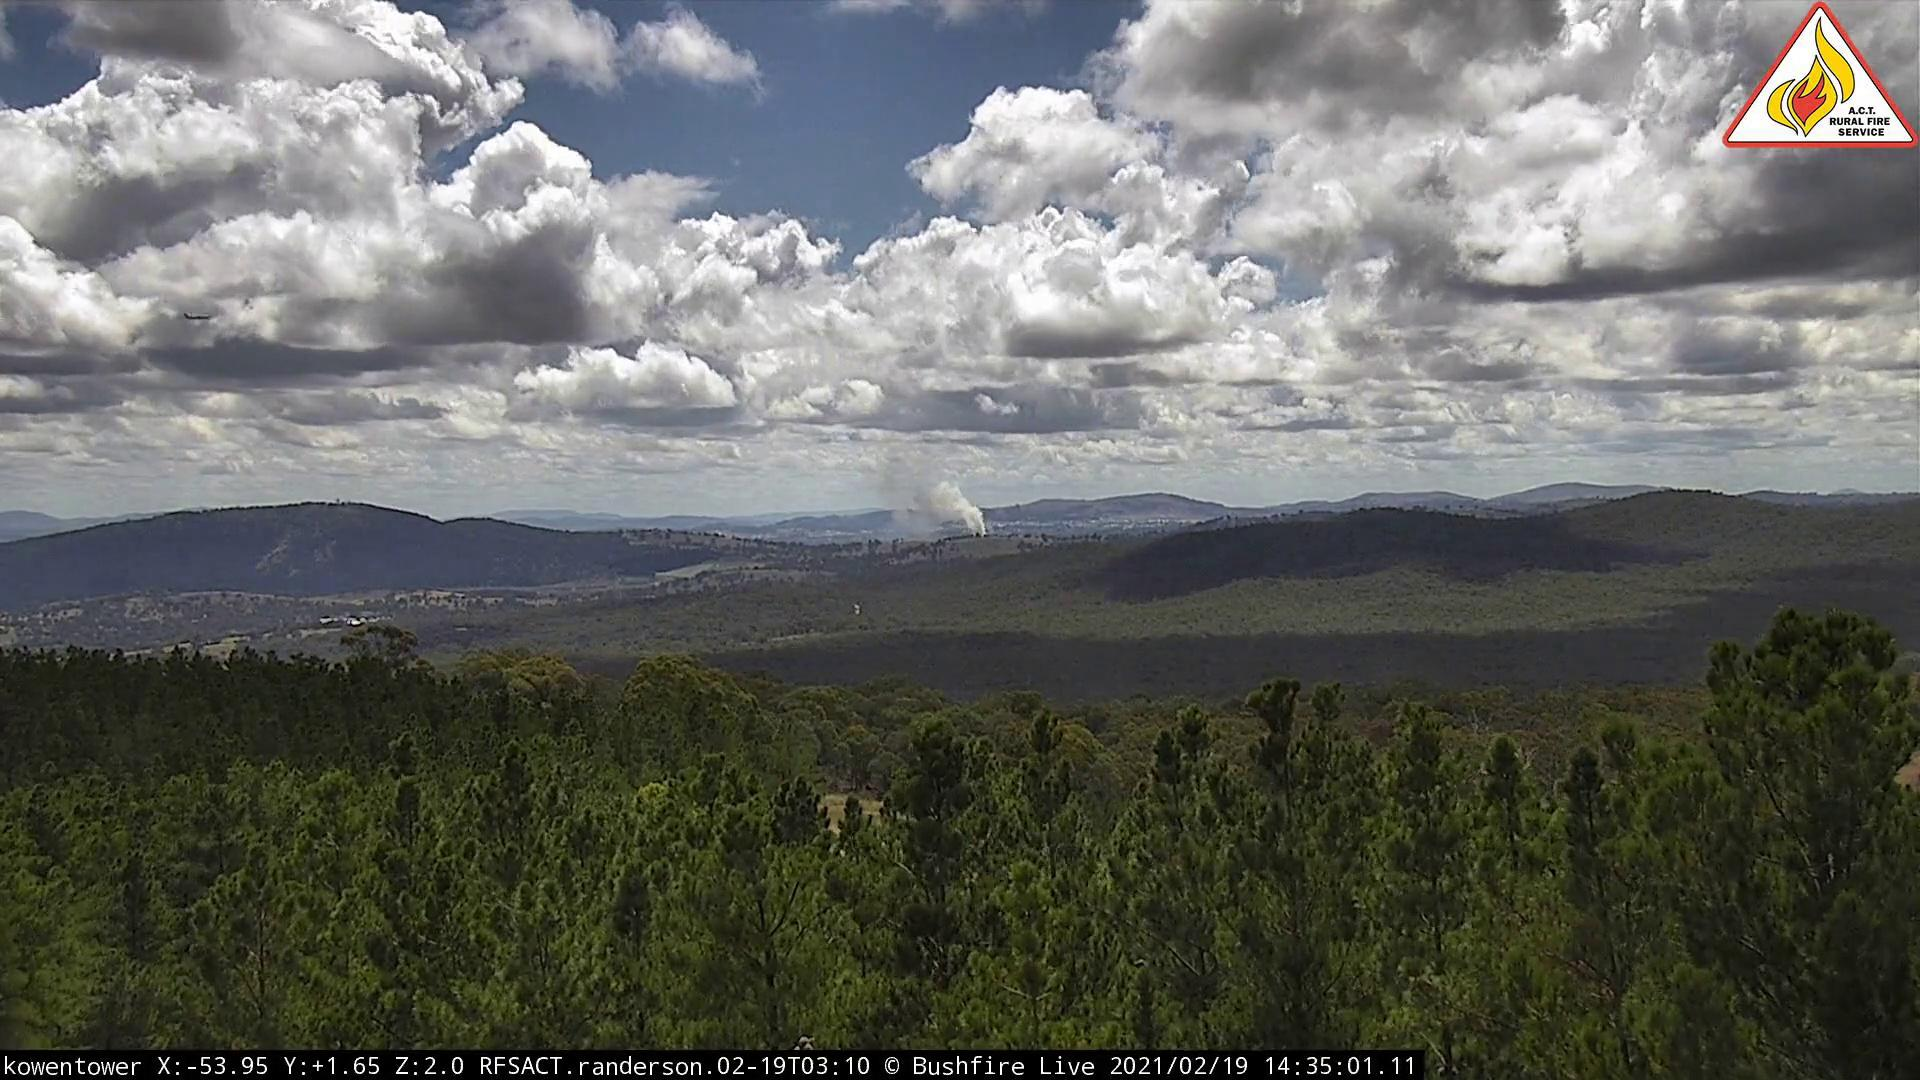Smoke: (877, 471, 993, 549)
